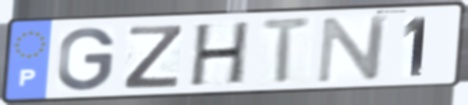1: (402, 15, 427, 78)
G: (55, 25, 118, 94)
H: (187, 19, 254, 89)
N: (314, 13, 391, 85)
T: (258, 15, 318, 88)
Z: (120, 23, 186, 91)
